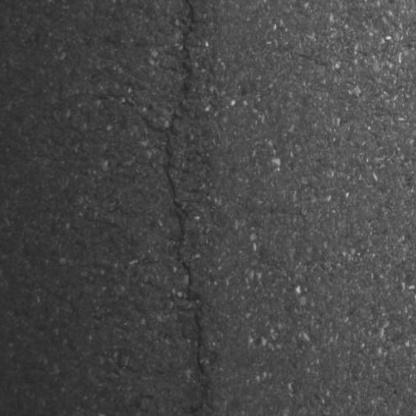Cracks: (134, 0, 216, 416)
